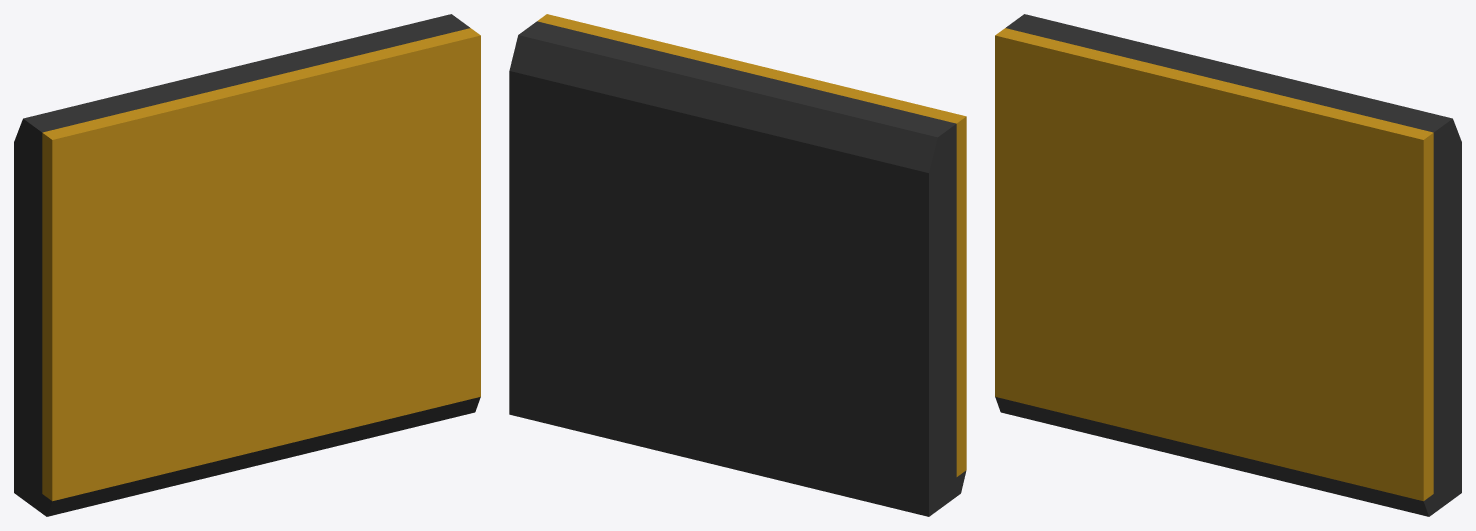
File: Tripod_Light_A_1.obj
3 views of the same model, side by side, from view 1: azimuth 30°, elevation 25°; view 2: azimuth 150°, elevation 25°; view 3: azimuth 330°, elevation 25° (orthographic). The views are drawn at different scales.
Parts seen in each view (by area): view 1: Tripod_Light_A_1; view 2: Tripod_Light_A_1; view 3: Tripod_Light_A_1.
Part boxes in pixels (left/top/right/bottom): Tripod_Light_A_1: left=14, top=14, right=480, bottom=516; Tripod_Light_A_1: left=509, top=14, right=966, bottom=516; Tripod_Light_A_1: left=995, top=14, right=1461, bottom=516.
Size of the model in its own units: 0.3375 by 0.2868 by 0.0523.
